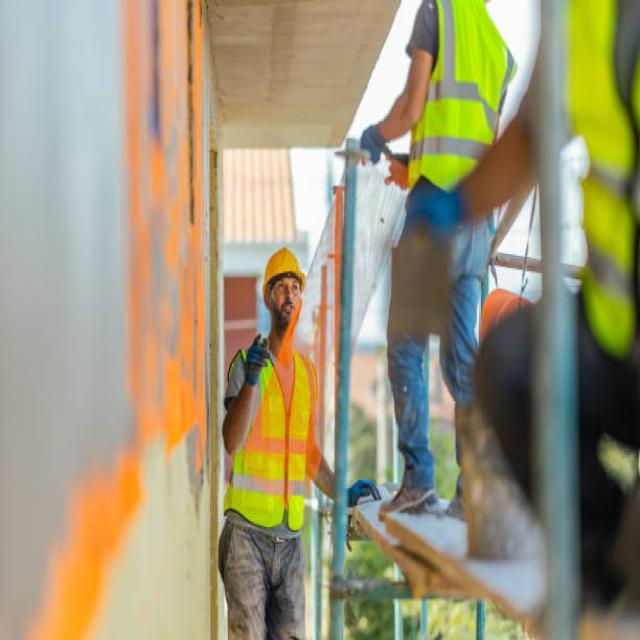Gloves: (399, 172, 474, 250), (355, 118, 390, 170), (241, 334, 270, 395), (342, 474, 386, 512), (384, 152, 414, 192)
Vest: (565, 0, 640, 358), (401, 2, 518, 192), (222, 343, 321, 534)
helmet: (260, 248, 308, 310)
person: (460, 1, 640, 576), (357, 0, 518, 522), (217, 248, 381, 640)
